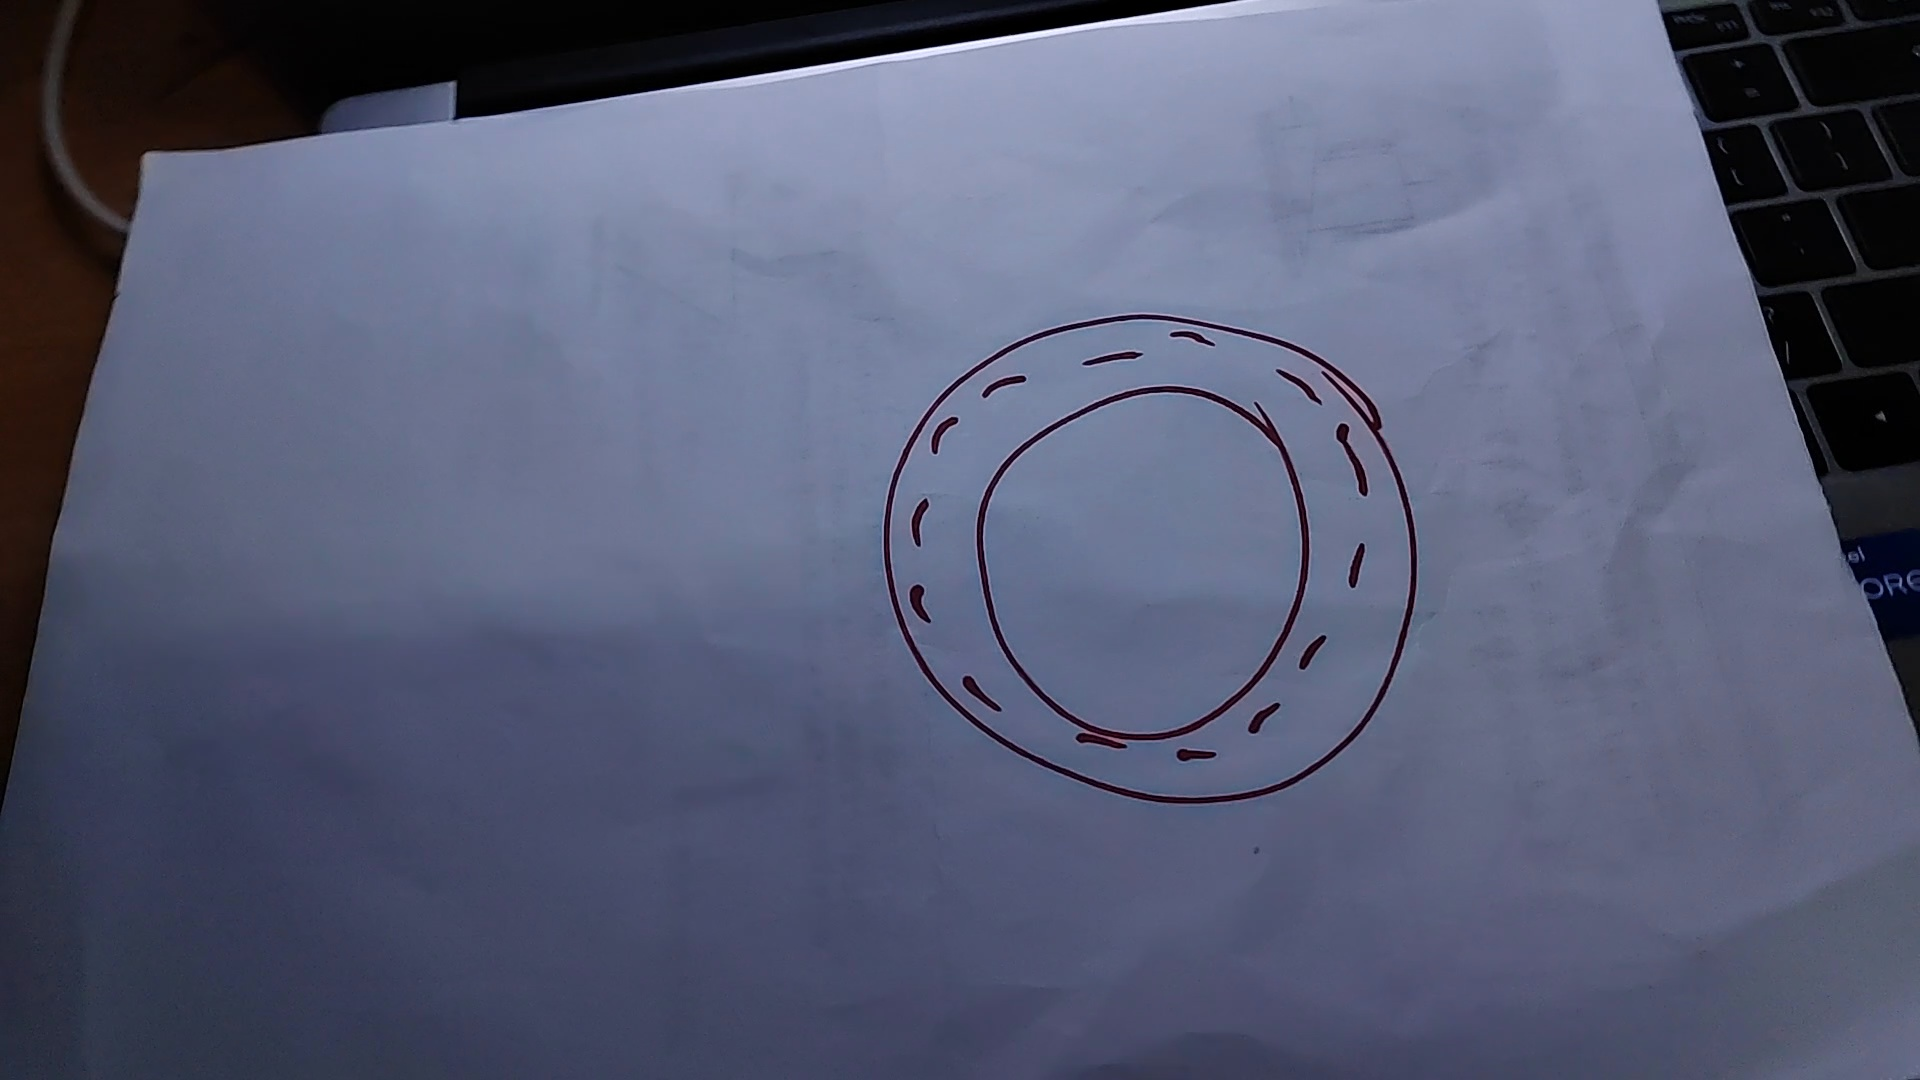circle: (886, 315, 1418, 802)
